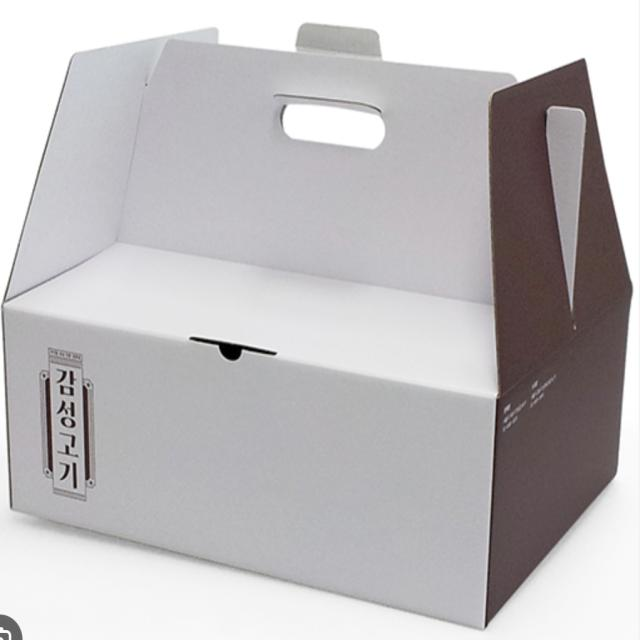biodegradable: (7, 8, 637, 634)
